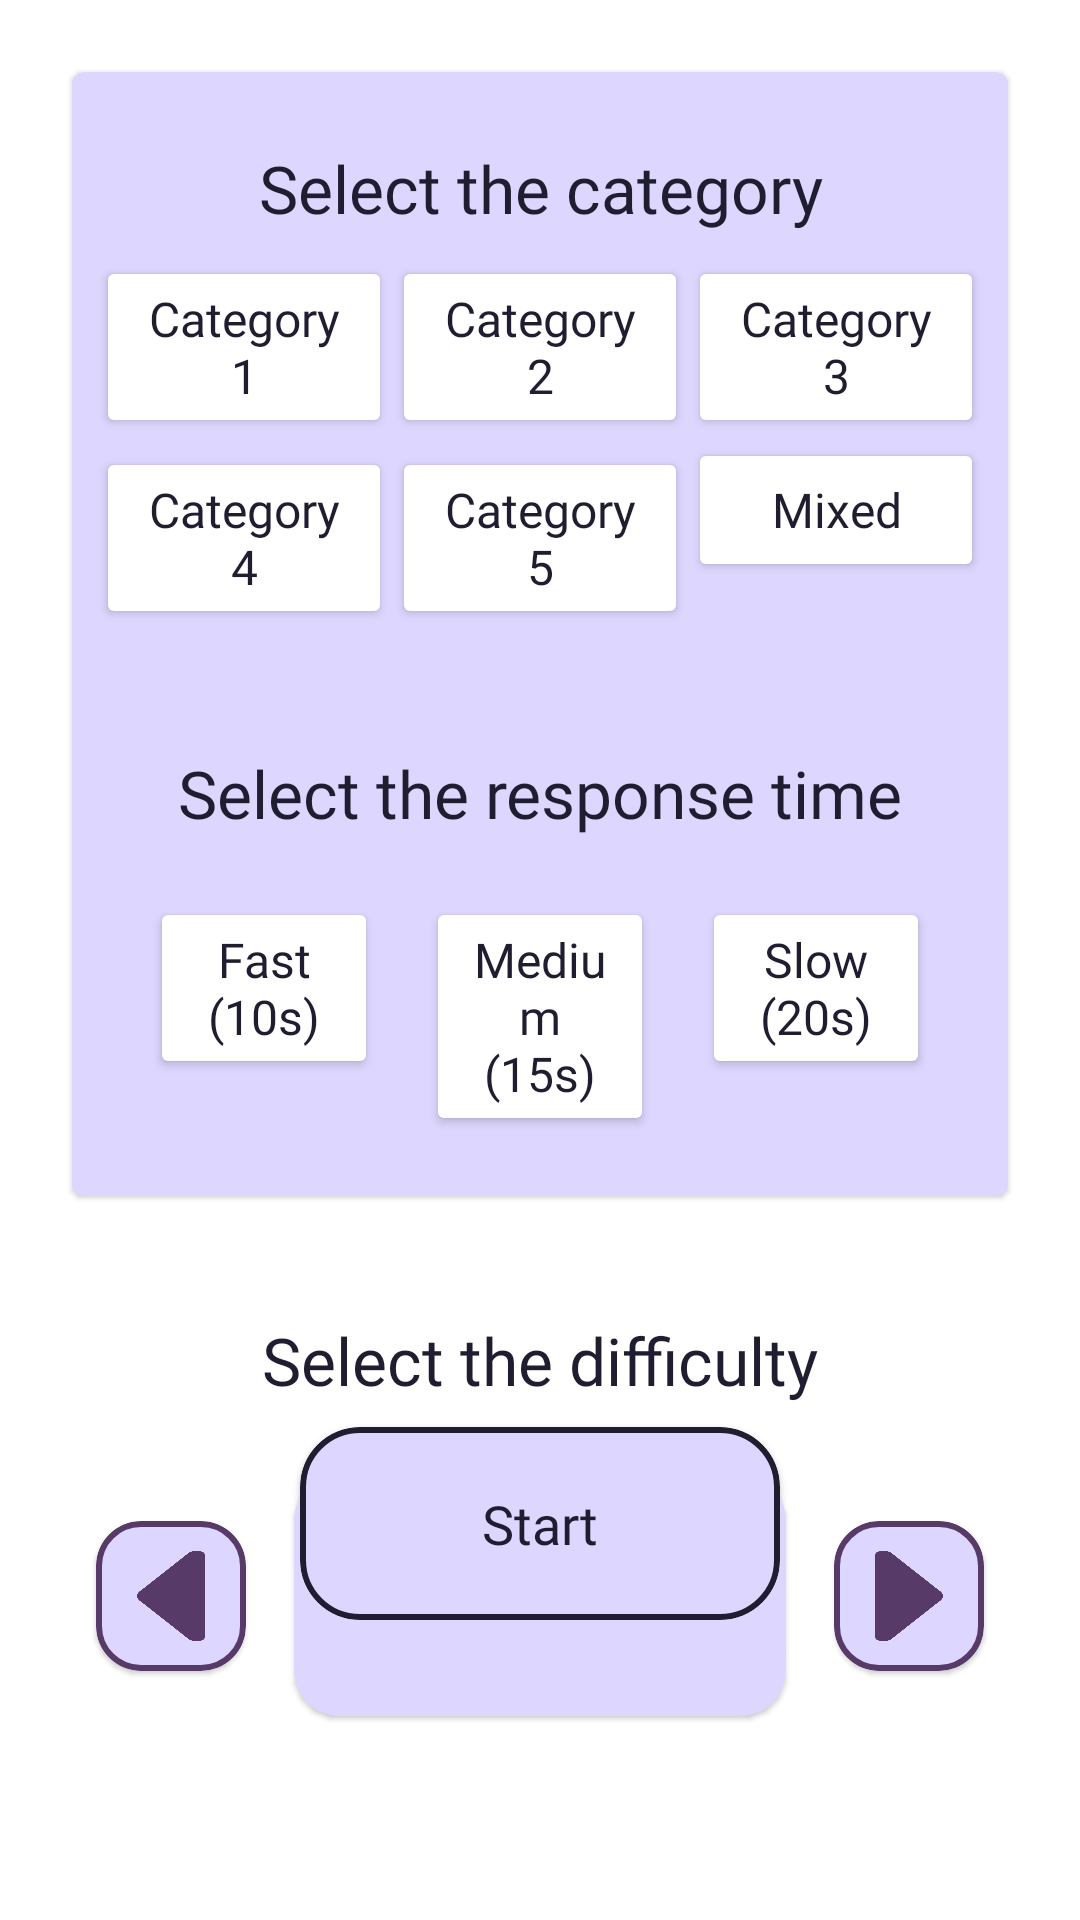

Screen size 1080px x 1920px. Icon name, then its box in pixels as {"left": x1, "top": y1, "right": x2, "bottom": y2}:
Left arrow: {"left": 96, "top": 1521, "right": 246, "bottom": 1671}
Right arrow: {"left": 834, "top": 1521, "right": 984, "bottom": 1671}
